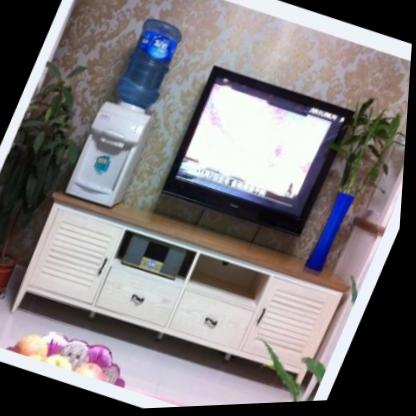TV stand: (3, 172, 359, 414)
